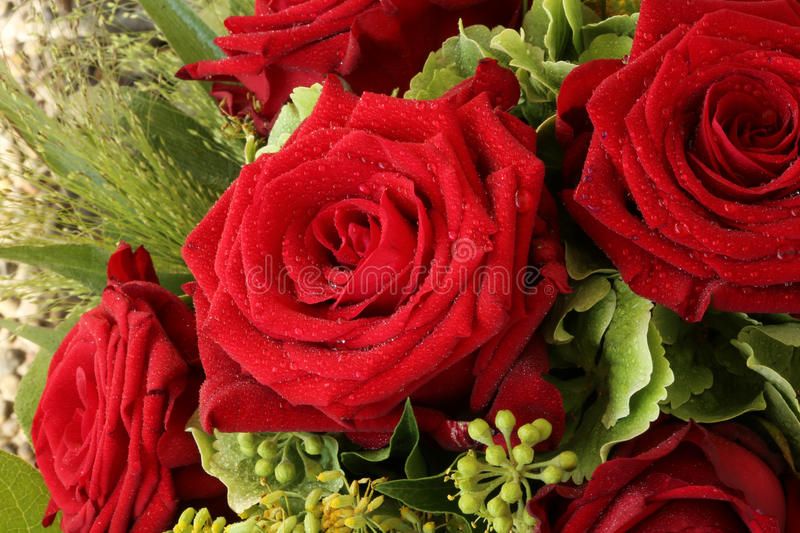RedRose: (180, 91, 581, 431), (562, 10, 800, 274), (64, 259, 184, 523), (192, 5, 472, 84), (590, 411, 770, 533)
